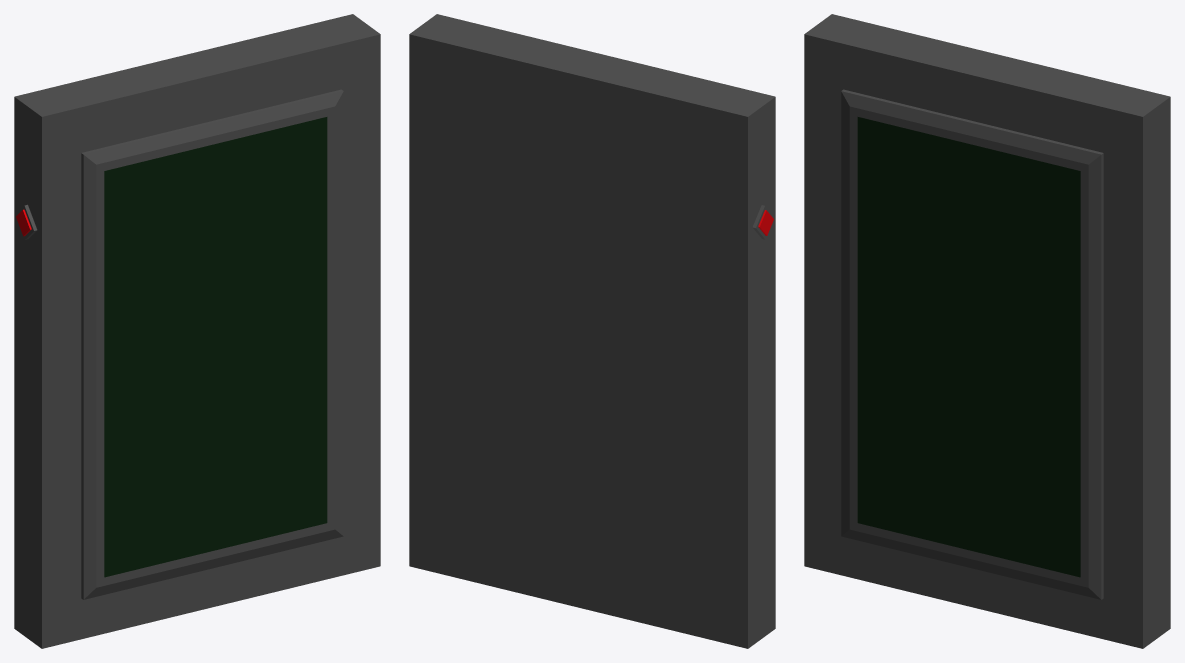
The model's file is ACPanel.fbx.
3 views of the same model, side by side, from view 1: azimuth 30°, elevation 25°; view 2: azimuth 150°, elevation 25°; view 3: azimuth 330°, elevation 25° (orthographic).
Visible parts, largest first — view 1: Cube; view 2: Cube; view 3: Cube.
Boxes of the visible parts, box(x1,y1,x2,y2) form: Cube: box(14, 14, 380, 648); Cube: box(409, 14, 775, 648); Cube: box(804, 14, 1170, 648).
Bounding box in the file's own units: 203 × 300 × 32.88.
